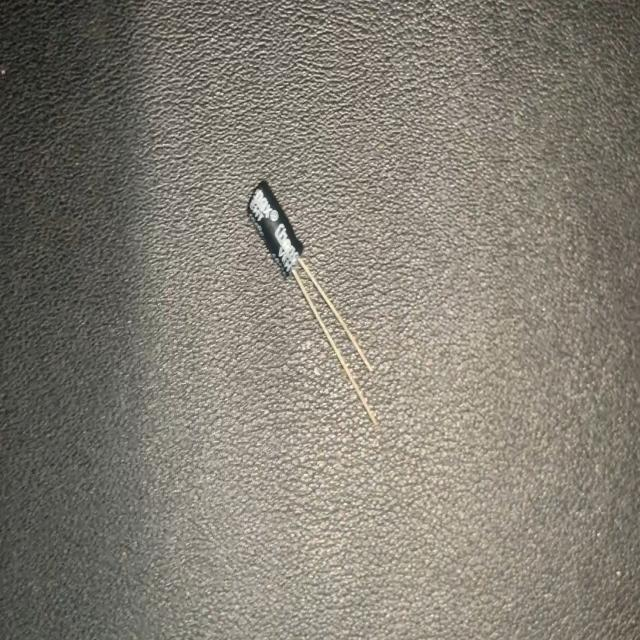capacitor: (245, 171, 381, 431)
